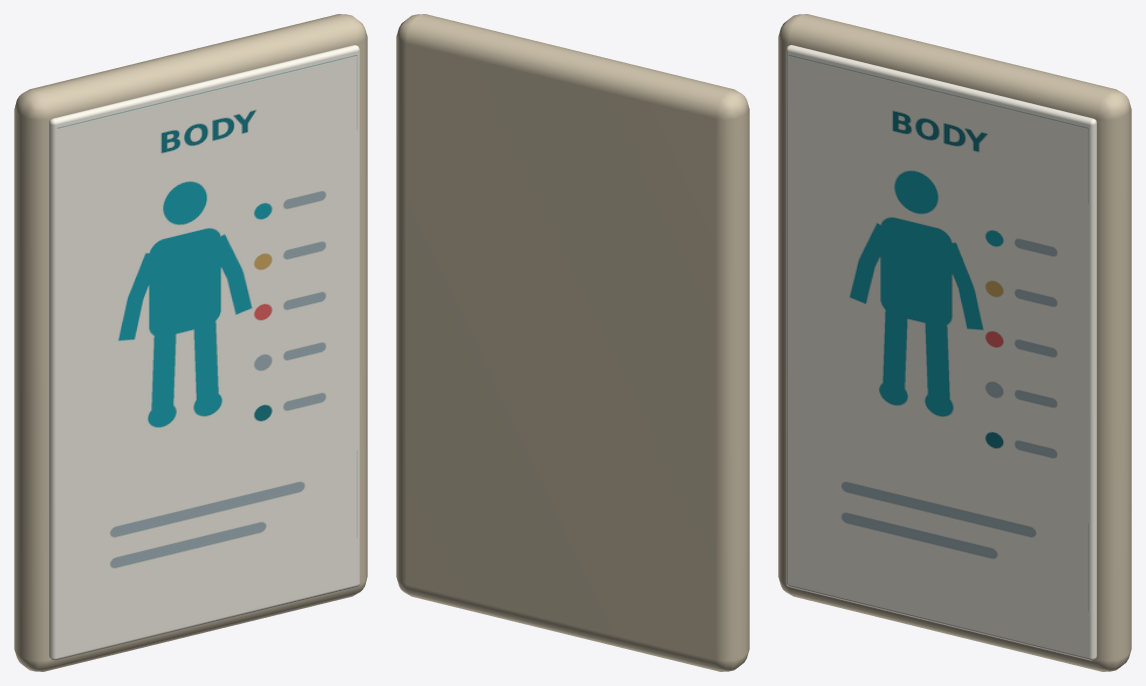
File: Assessment_Poster_Body.glb
3 renders of one model, left to right at view 1: azimuth 30°, elevation 25°; view 2: azimuth 150°, elevation 25°; view 3: azimuth 330°, elevation 25°, orthographic.
Parts seen in each view (by area): view 1: Assessment_Poster_Body__Graphics, Assessment_Poster_Body__Visual; view 2: Assessment_Poster_Body__Visual; view 3: Assessment_Poster_Body__Graphics, Assessment_Poster_Body__Visual.
Part boxes in pixels (x1=…): Assessment_Poster_Body__Graphics: x1=57, y1=55, x2=357, y2=654; Assessment_Poster_Body__Visual: x1=14, y1=14, x2=367, y2=671; Assessment_Poster_Body__Visual: x1=396, y1=14, x2=749, y2=671; Assessment_Poster_Body__Graphics: x1=788, y1=55, x2=1088, y2=654; Assessment_Poster_Body__Visual: x1=778, y1=14, x2=1131, y2=671.
Bounding box in the file's own units: 0.43 × 0.69 × 0.0614.
Materials: 2 (2 with a texture image).
